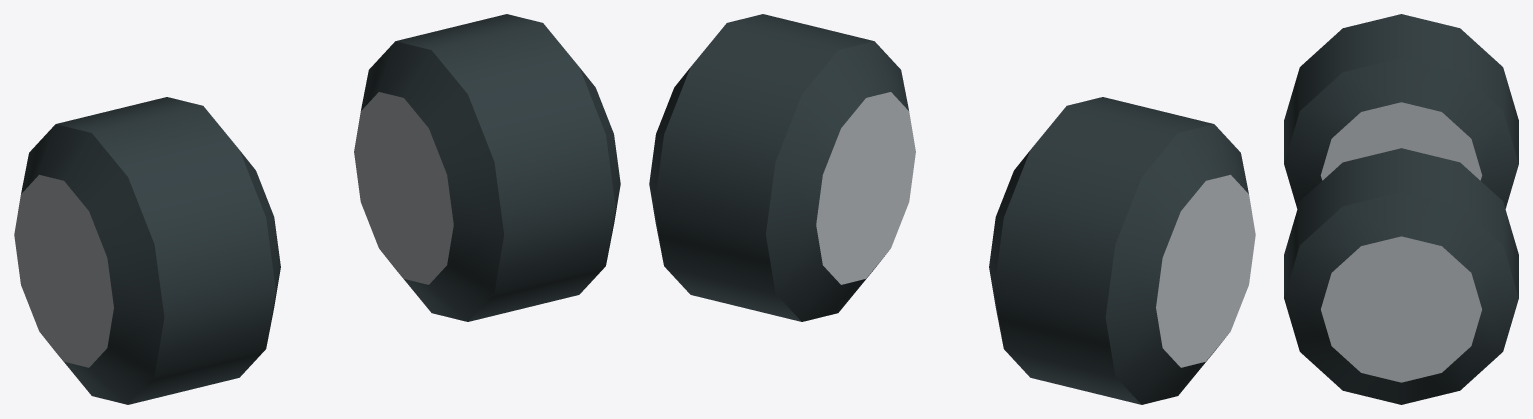
The model's file is Delivery_drone_001_wheels_002.fbx.
3 renders of one model, left to right at view 1: azimuth 30°, elevation 25°; view 2: azimuth 150°, elevation 25°; view 3: azimuth 270°, elevation 25°, orthographic. The views are drawn at different scales.
Parts seen in each view (by area): view 1: Delivery_drone_001_wheels_002; view 2: Delivery_drone_001_wheels_002; view 3: Delivery_drone_001_wheels_002.
Part boxes in pixels (<box>): Delivery_drone_001_wheels_002: <box>14,14,620,404</box>; Delivery_drone_001_wheels_002: <box>649,14,1255,404</box>; Delivery_drone_001_wheels_002: <box>1284,14,1518,404</box>.
Bounding box in the file's own units: 52.42 × 26 × 26.
